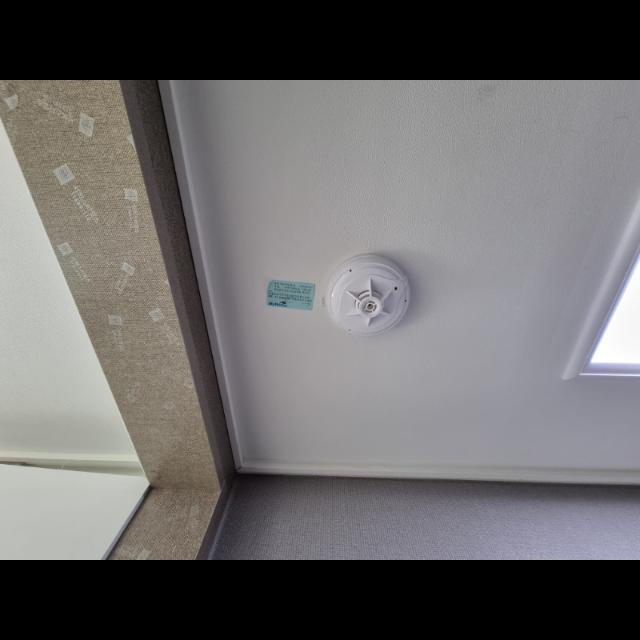Smoke-Detector: (325, 256, 409, 334)
